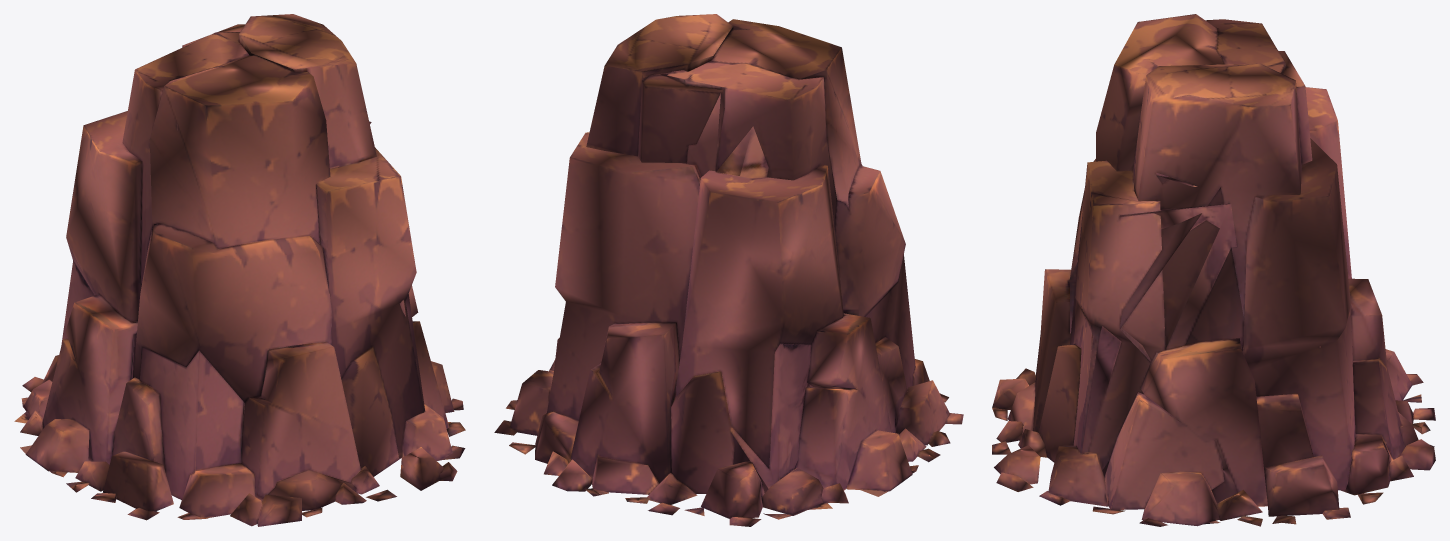
File: Meshy_AI_Sunstone_Crag_0907091554_texture.fbx
3 views of the same model, side by side, from view 1: azimuth 30°, elevation 25°; view 2: azimuth 150°, elevation 25°; view 3: azimuth 270°, elevation 25° (orthographic).
Visible parts, largest first — view 1: mesh_node; view 2: mesh_node; view 3: mesh_node.
Boxes of the visible parts, <box> form: mesh_node: <box>14,14,465,526</box>; mesh_node: <box>494,14,963,526</box>; mesh_node: <box>992,14,1435,526</box>.
Bounding box in the file's own units: 100 × 95.9 × 100.
Materials: 1 (1 with a texture image).
